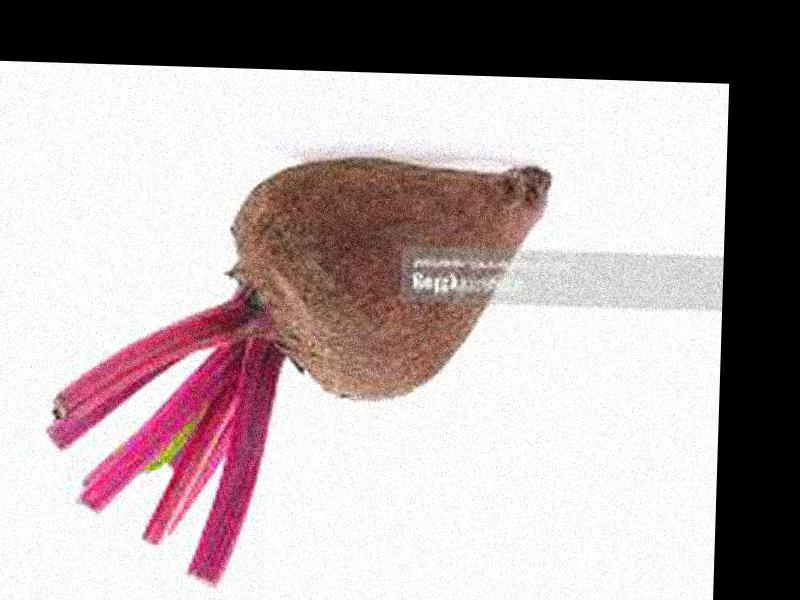Beet: (41, 150, 552, 595)
